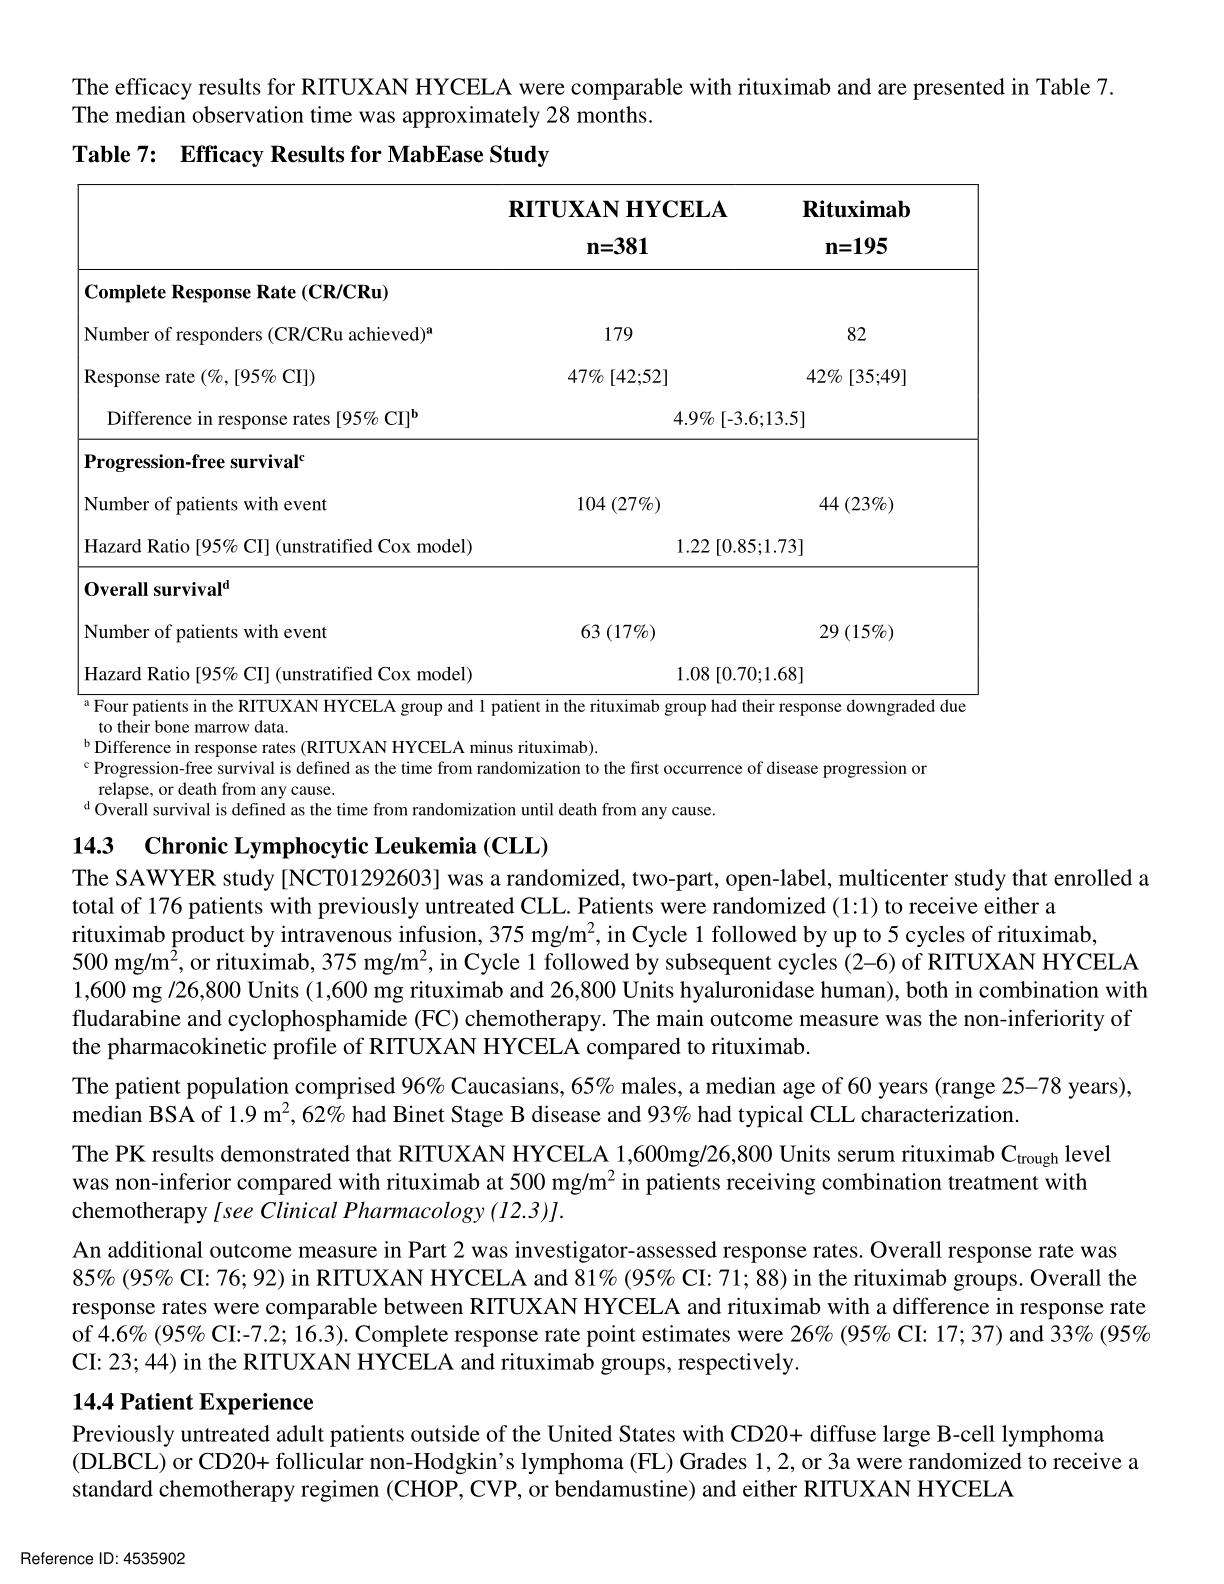partial_lined_merged_cells: (77, 183, 981, 698)
